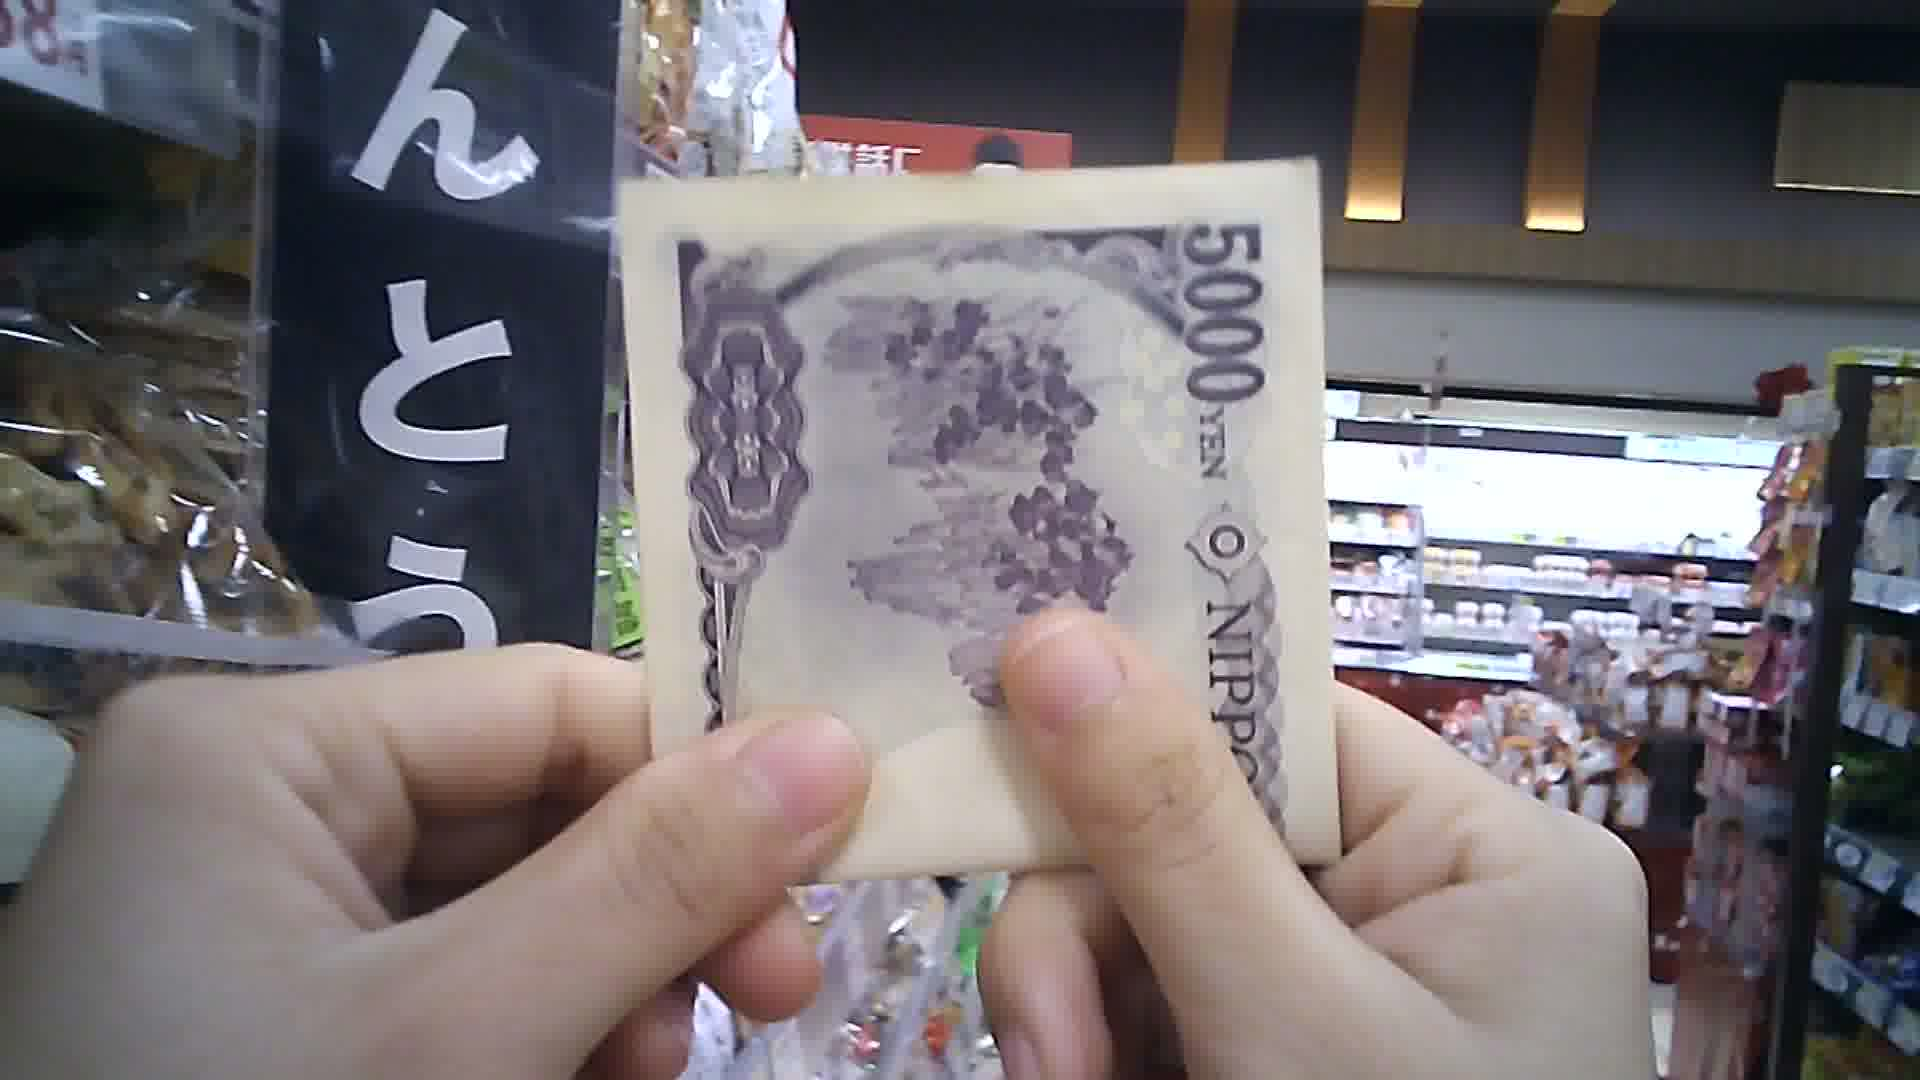5,000 Yen: (596, 150, 1354, 895)
